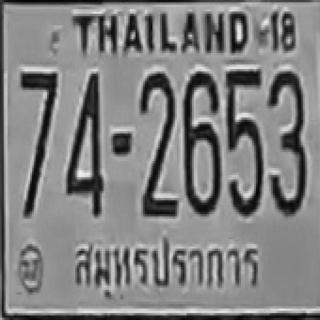N02: (139, 71, 175, 193), (140, 100, 176, 215)
N03: (266, 69, 306, 214)
N04: (64, 71, 102, 214)
N06: (183, 69, 220, 214)
N07: (19, 70, 57, 158)
P57: (72, 232, 268, 295)
